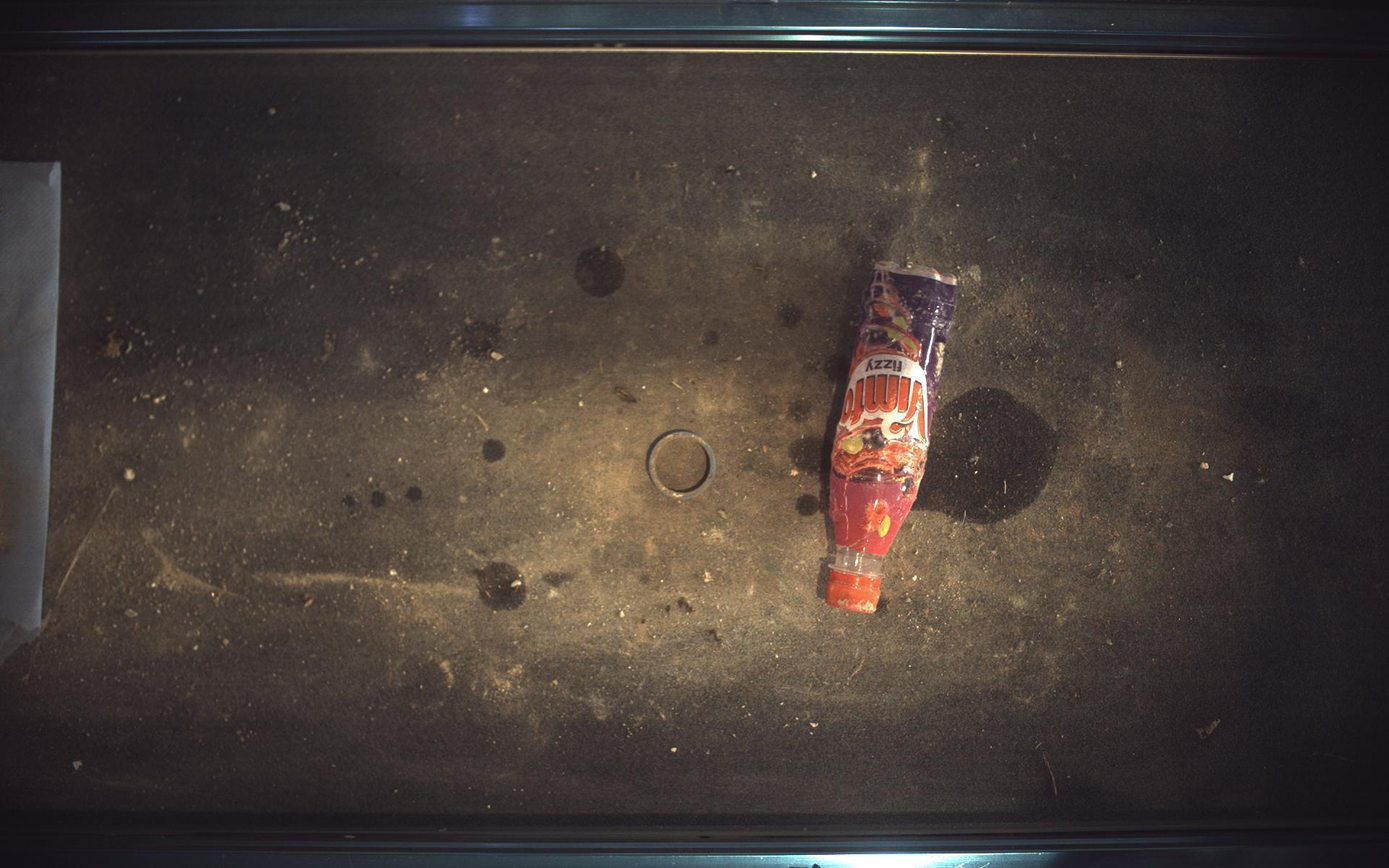general_w: (827, 261, 959, 614)
pipes: (649, 431, 717, 500)
